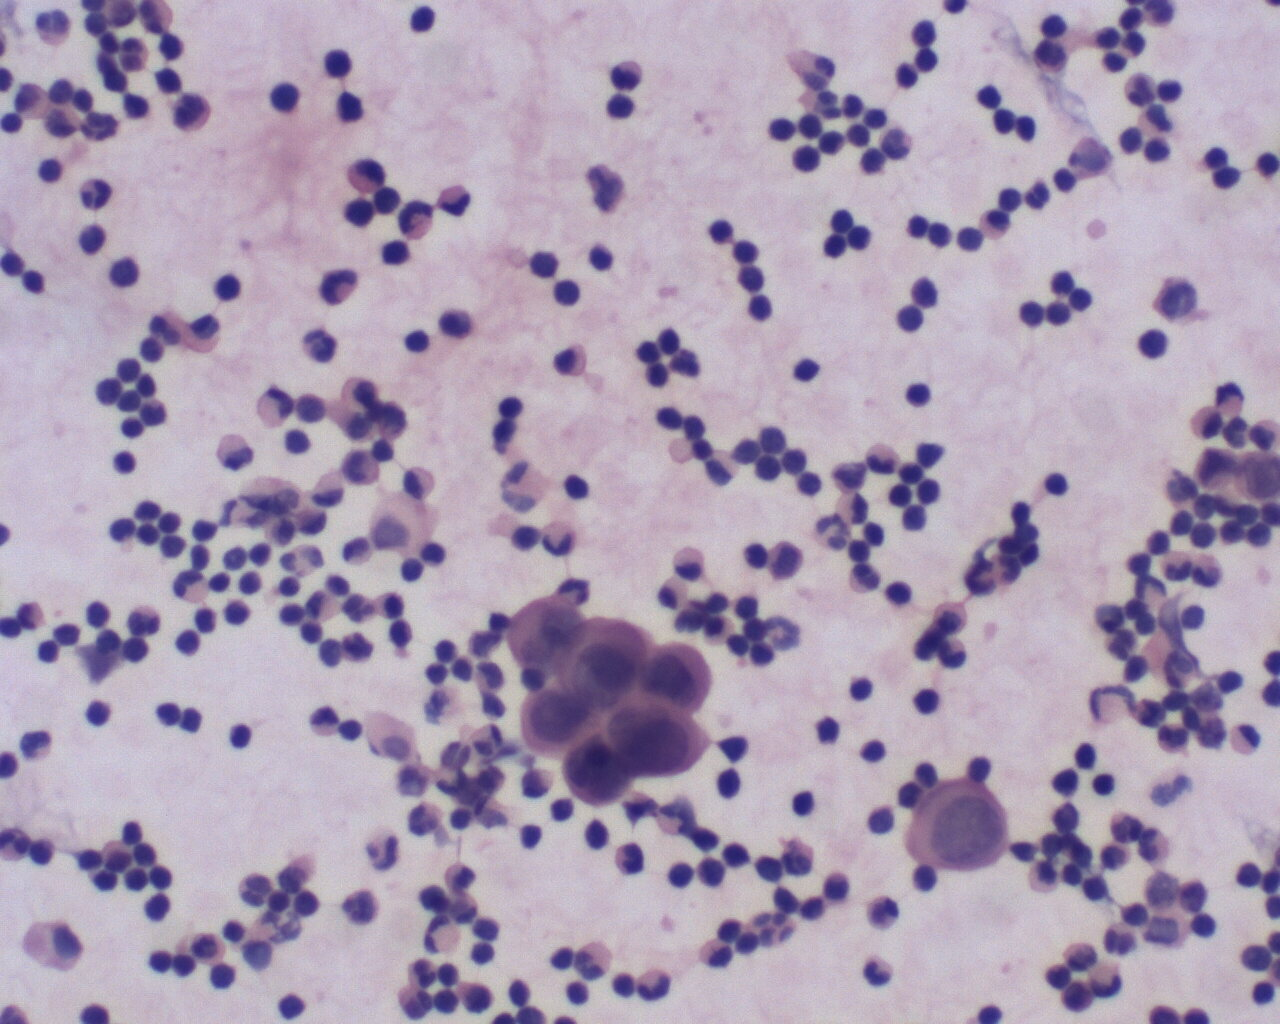ab: (902, 774, 1010, 872), (602, 694, 715, 781), (559, 616, 649, 714), (645, 634, 721, 715), (516, 685, 599, 760), (562, 734, 634, 812)
lymph: (267, 77, 308, 115), (208, 271, 249, 307), (1138, 321, 1172, 364), (790, 352, 827, 389), (550, 274, 585, 311), (700, 216, 740, 250), (788, 142, 824, 178), (970, 82, 1013, 112), (900, 372, 933, 411), (785, 784, 823, 817), (223, 718, 256, 757), (375, 234, 412, 267), (398, 324, 435, 357), (80, 695, 114, 730), (889, 303, 926, 335), (408, 2, 442, 36), (912, 683, 945, 716), (880, 579, 915, 608), (666, 859, 697, 890), (1035, 468, 1068, 498)
neutro: (433, 177, 476, 220), (76, 172, 117, 215), (860, 953, 900, 995)
